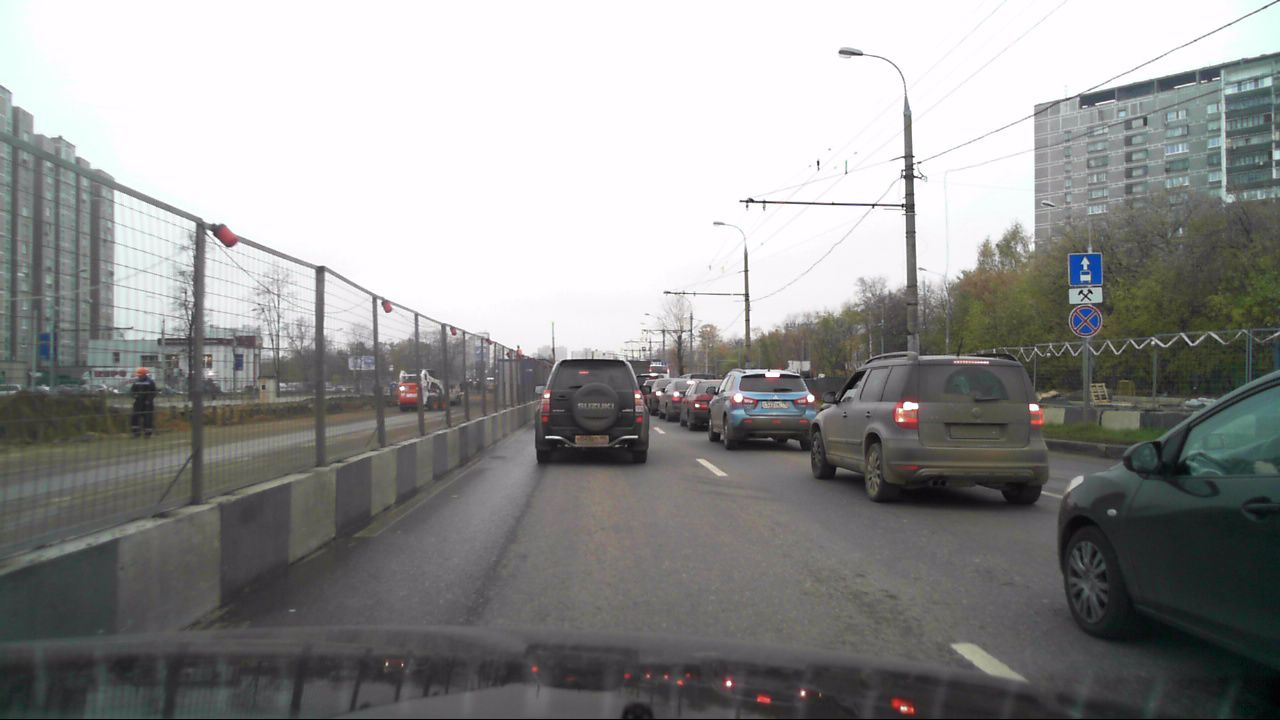No Parking: (1068, 305, 1100, 336)
